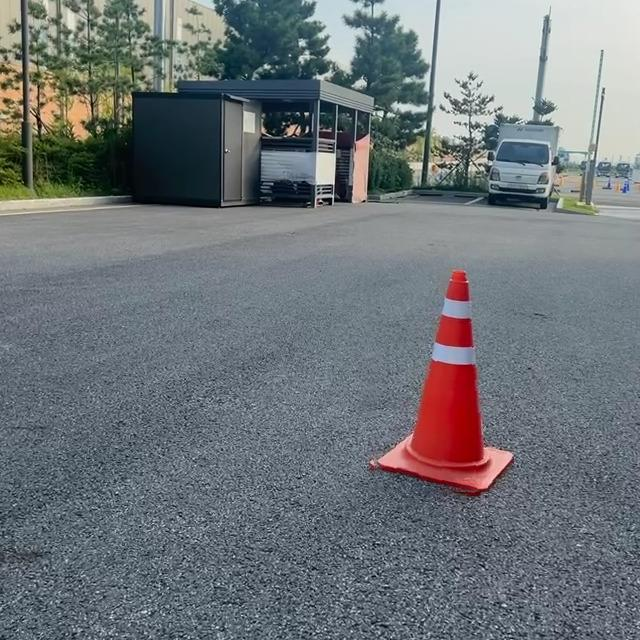fallen_object: (353, 263, 517, 521)
